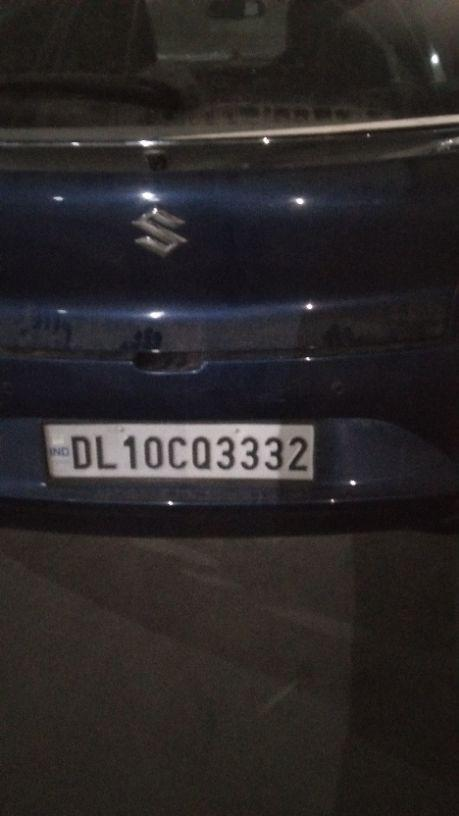license_plate: (40, 417, 317, 483)
